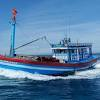tau_dansu: (3, 22, 100, 74)
